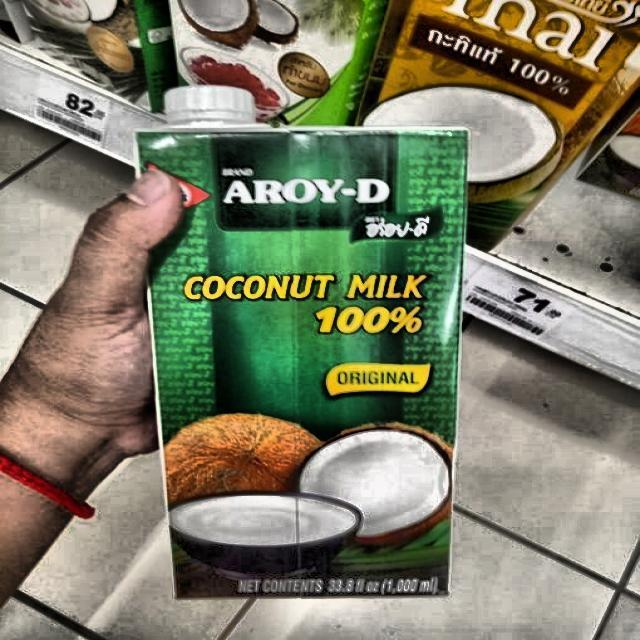cardboard: (137, 125, 470, 599)
